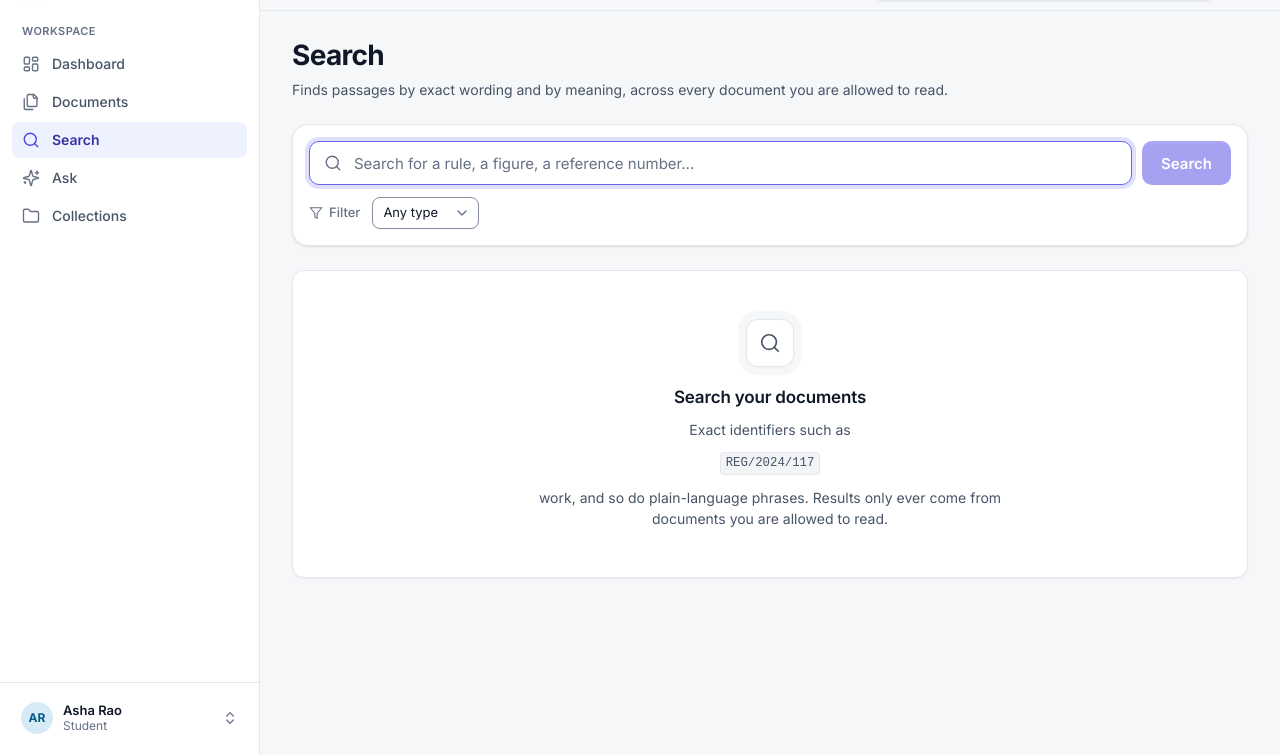
Test: quick find › keeps the highlighted command when document results arrive above it
Expected: the search field named "Search documents" is shown, [309,141,1132,185]
Step 1. Type keys "{Control>}k{/Control}"
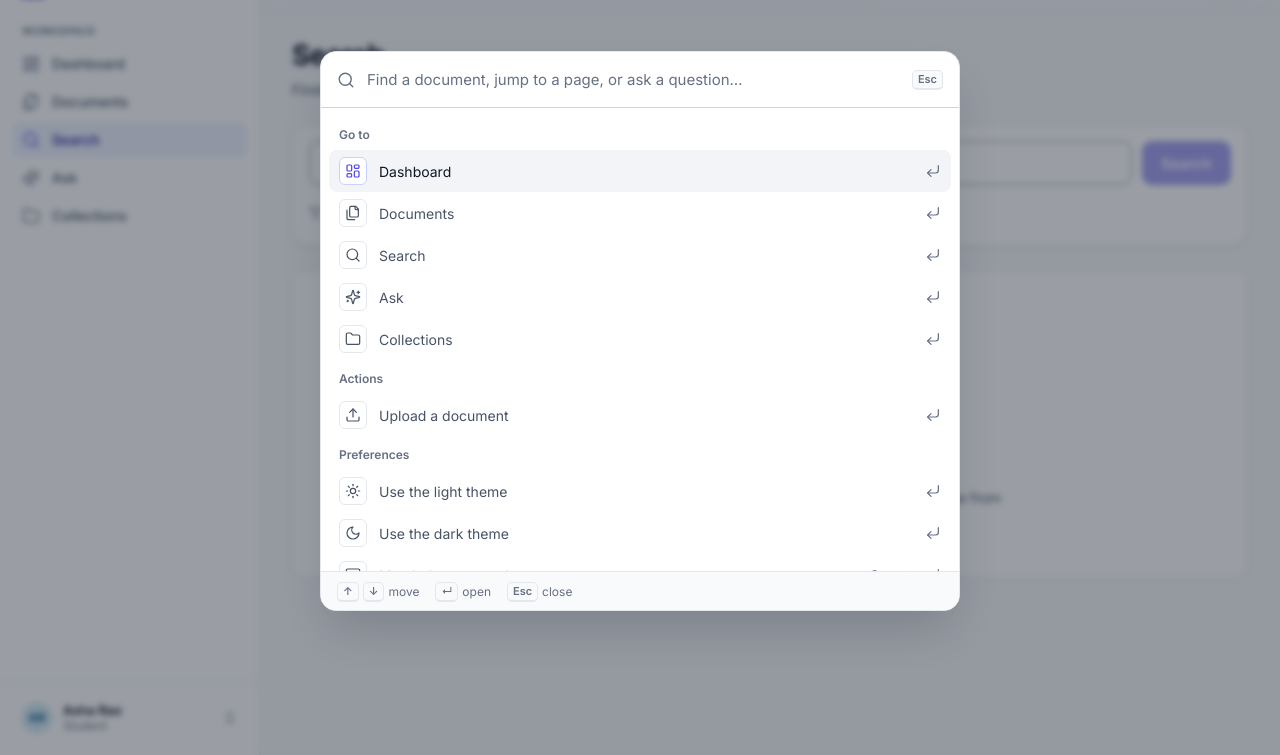
Step 2. Type "doc" into the dropdown named "Search or jump to" → (633, 80), box [365,52,902,107]
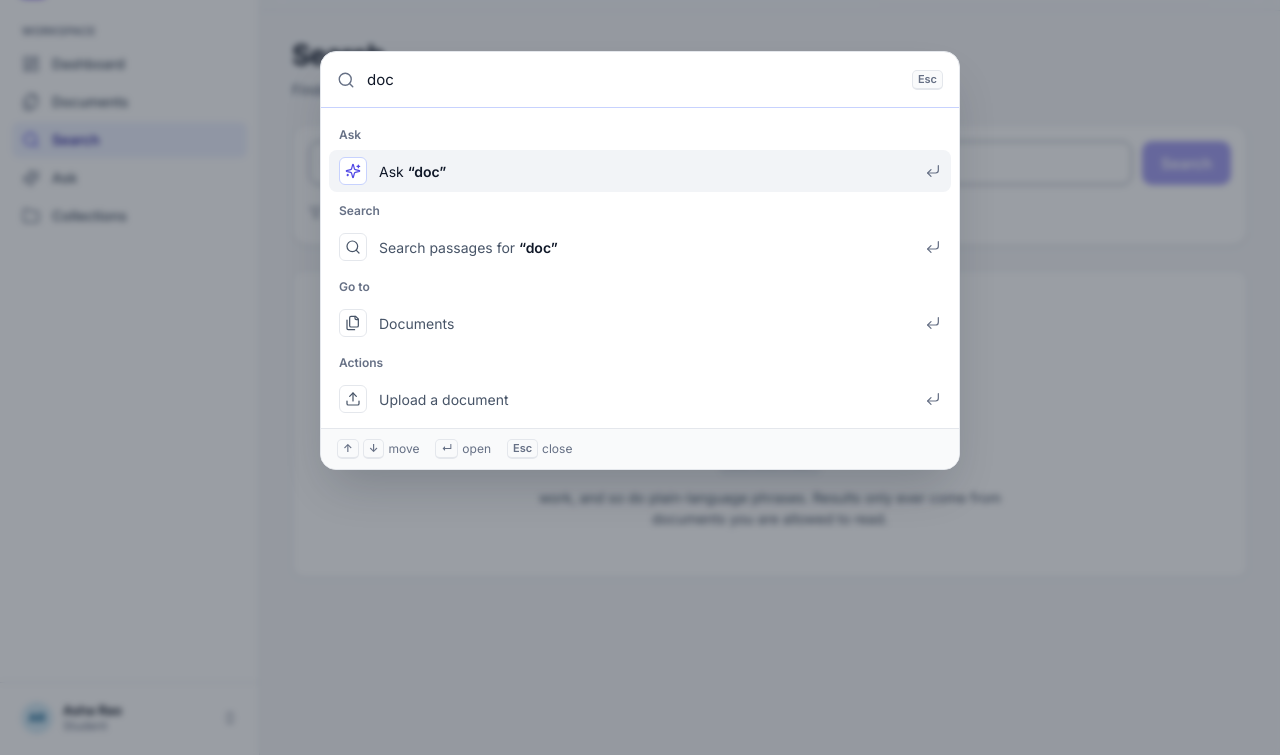
Step 3. Press Arrowdown Arrowdown
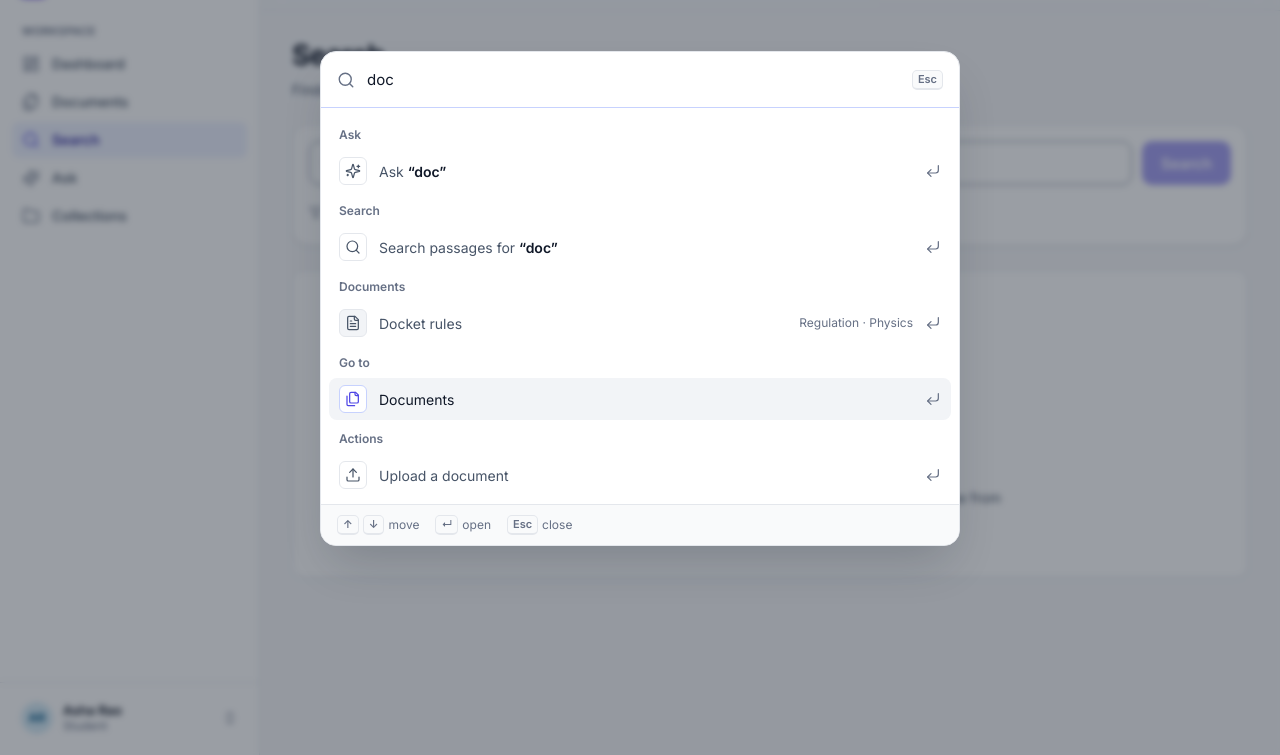
Now the option "Docket rules Regulation · Physics" is shown, box [329,302,951,344]
Step 4. Press Enter
(page scrolled)
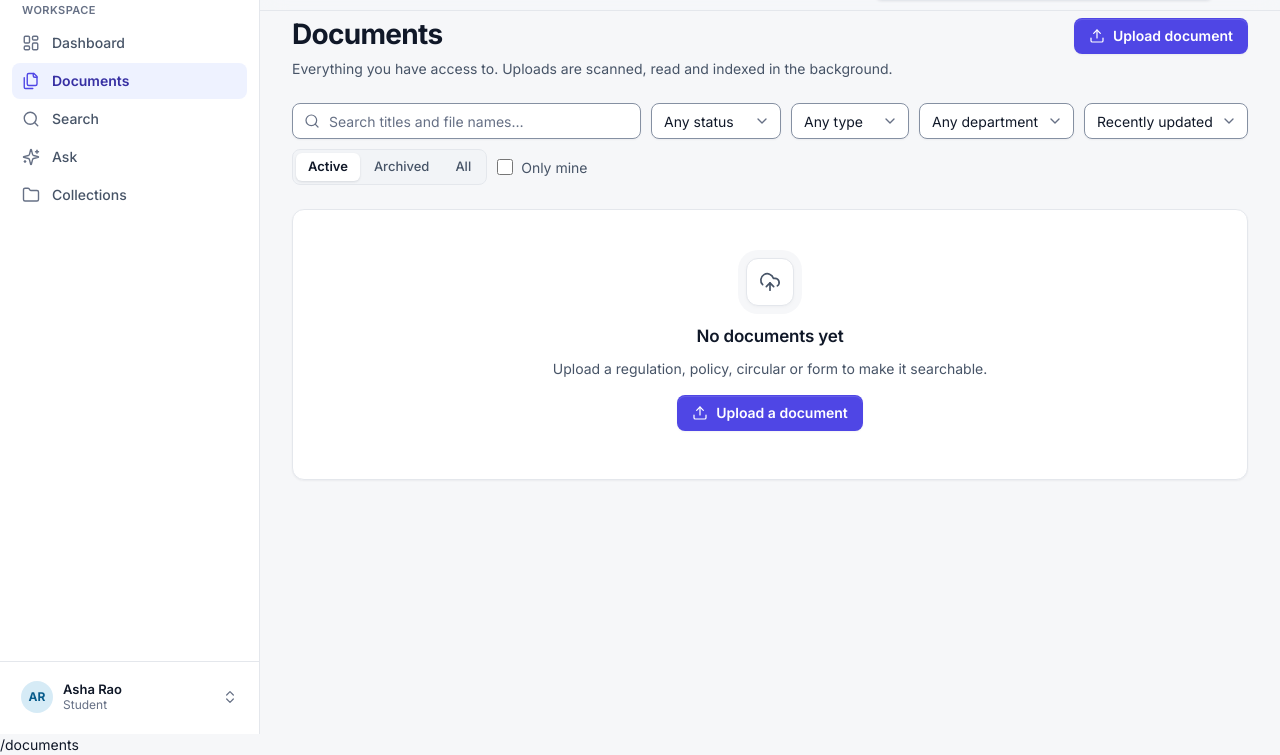
Now the text with test id "location" reads "/documents", box [0,736,79,753]
